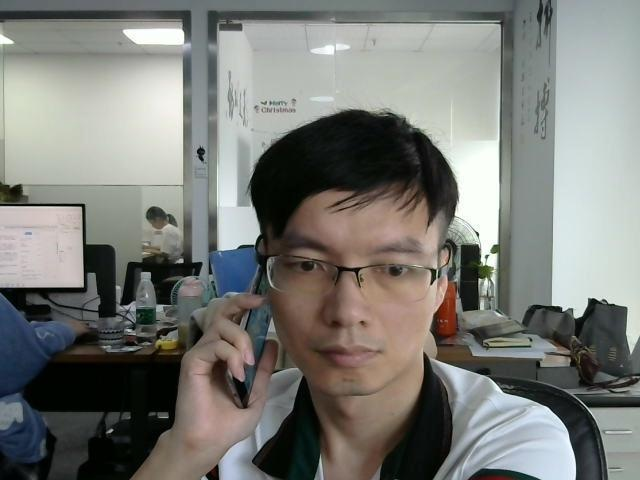hand: (183, 294, 281, 434)
